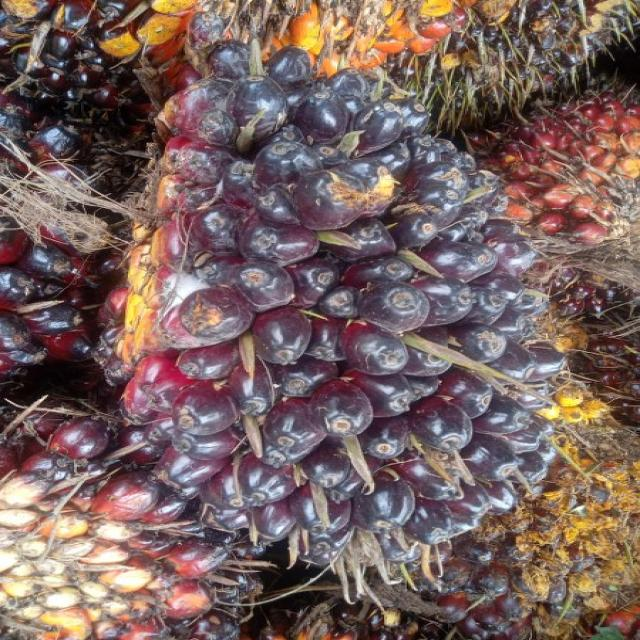fraksi 00: (103, 19, 580, 580)
